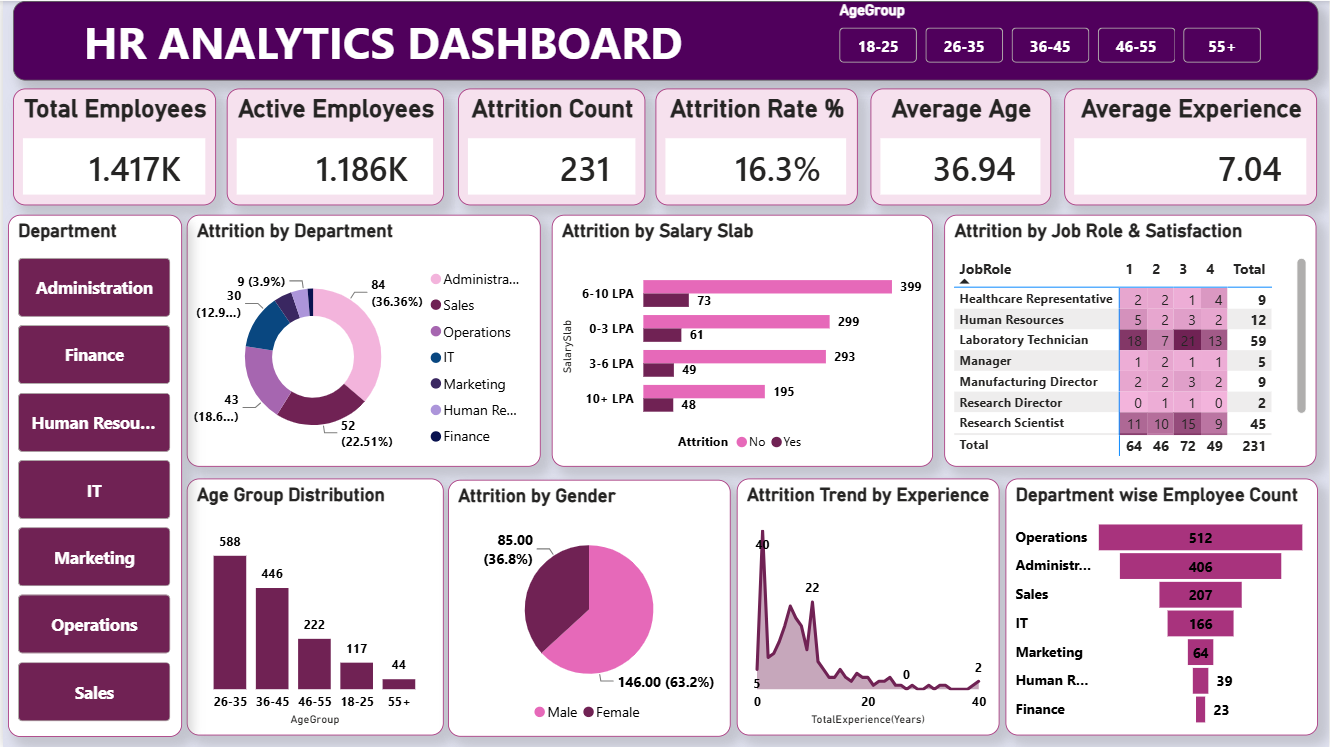

Layout of this report page (visuals, bound fields, positions):
{"tool":"powerbi","page":{"name":"Page 1","canvas":[1280,720],"ordinal":0},"visuals":[{"type":"textbox","box":[9.6,0,1259.7,76.8],"z":0},{"type":"cardVisual","title":"Total Employees","fields":{"Data":["CountNonNull(HR_Analytics-4.EmpID)"]},"box":[9.6,84,196.2,112.5],"z":1000},{"type":"cardVisual","title":"Active Employees","fields":{"Data":["CountNonNull(HR_Analytics-4.EmpID)"]},"box":[215.4,84,209.9,112.5],"z":2000},{"type":"cardVisual","title":"Attrition Count","fields":{"Data":["Sum(HR_Analytics-4.AttritionCount)"]},"box":[439.1,84,181.1,112.5],"z":3000},{"type":"cardVisual","title":"Attrition Rate %","fields":{"Data":["HR_Analytics-4.Attrition Rate %"]},"box":[629.8,84,194.9,112.5],"z":4000},{"type":"cardVisual","title":"Average Age","fields":{"Data":["Avg(HR_Analytics-4.Age)"]},"box":[837.1,84,174.3,112.5],"z":5000},{"type":"cardVisual","title":"Average Experience","fields":{"Data":["Avg(HR_Analytics-4.YearsatCompany)"]},"box":[1023.7,84,244.3,112.5],"z":6000},{"type":"donutChart","title":"Attrition by Department","fields":{"Category":["HR_Analytics-4.Department"],"Y":["Sum(HR_Analytics-4.AttritionCount)"]},"box":[177,205.8,341.7,242.9],"z":7000},{"type":"clusteredBarChart","title":"Attrition by Salary Slab","fields":{"Category":["HR_Analytics-4.SalarySlab"],"Y":["CountNonNull(HR_Analytics-4.EmpID)"],"Series":["HR_Analytics-4.Attrition"]},"box":[529.7,205.8,367.8,242.9],"z":8000},{"type":"pivotTable","title":"Attrition by Job Role & Satisfaction","fields":{"Rows":["HR_Analytics-4.JobRole"],"Values":["Sum(HR_Analytics-4.AttritionCount)"],"Columns":["HR_Analytics-4.JobSatisfaction"]},"box":[908.4,205.8,359.5,242.9],"z":9000},{"type":"columnChart","title":"Age Group Distribution","fields":{"Category":["HR_Analytics-4.AgeGroup"],"Y":["Sum(HR_Analytics-4.EmployeeCount)"]},"box":[177,461.1,248.4,248.4],"z":10000},{"type":"pieChart","title":"Attrition by Gender","fields":{"Category":["HR_Analytics-4.Gender"],"Y":["Sum(HR_Analytics-4.AttritionCount)"]},"box":[429.5,462.4,273.1,248.4],"z":11000},{"type":"areaChart","title":"Attrition Trend by Experience","fields":{"Category":["HR_Analytics-4.TotalExperience(Years)"],"Y2":["Sum(HR_Analytics-4.AttritionCount)"]},"box":[708.1,461.1,253.9,248.4],"z":12000},{"type":"funnel","title":"Department wise Employee Count","fields":{"Category":["HR_Analytics-4.Department"],"Y":["CountNonNull(HR_Analytics-4.EmpID)"]},"box":[967.4,461.1,301.9,248.4],"z":13000},{"type":"advancedSlicerVisual","fields":{"Values":["HR_Analytics-4.Department"]},"box":[5,206,167.7,504.3],"z":14000},{"type":"advancedSlicerVisual","fields":{"Values":["HR_Analytics-4.AgeGroup"]},"box":[802.3,0,447.6,77.2],"z":15000}]}

Visuals, with their boxes in screenshot pixels (x1, y1, x2, y2), scaled from the page's 1280x720 canvas onto the 1330x747 screenshot:
textbox: region(10, 0, 1319, 80)
"Total Employees" cardVisual: region(10, 87, 214, 204)
"Active Employees" cardVisual: region(224, 87, 442, 204)
"Attrition Count" cardVisual: region(456, 87, 644, 204)
"Attrition Rate %" cardVisual: region(654, 87, 857, 204)
"Average Age" cardVisual: region(870, 87, 1051, 204)
"Average Experience" cardVisual: region(1064, 87, 1318, 204)
"Attrition by Department" donutChart: region(184, 214, 539, 466)
"Attrition by Salary Slab" clusteredBarChart: region(550, 214, 933, 466)
"Attrition by Job Role & Satisfaction" pivotTable: region(944, 214, 1317, 466)
"Age Group Distribution" columnChart: region(184, 478, 442, 736)
"Attrition by Gender" pieChart: region(446, 480, 730, 737)
"Attrition Trend by Experience" areaChart: region(736, 478, 1000, 736)
"Department wise Employee Count" funnel: region(1005, 478, 1319, 736)
advancedSlicerVisual - HR_Analytics-4.Department: region(5, 214, 179, 737)
advancedSlicerVisual - HR_Analytics-4.AgeGroup: region(834, 0, 1299, 80)
